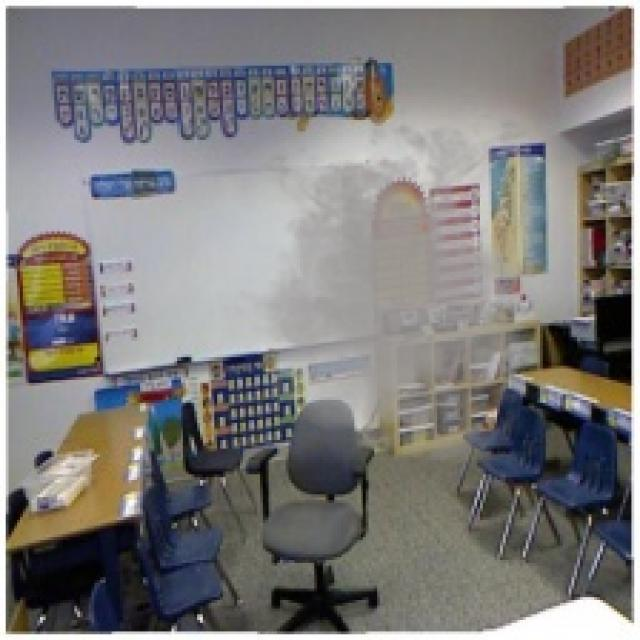Smoke: (195, 97, 594, 469)
